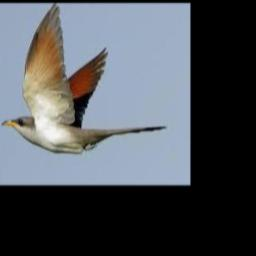Cuckoo: (3, 3, 166, 153)
